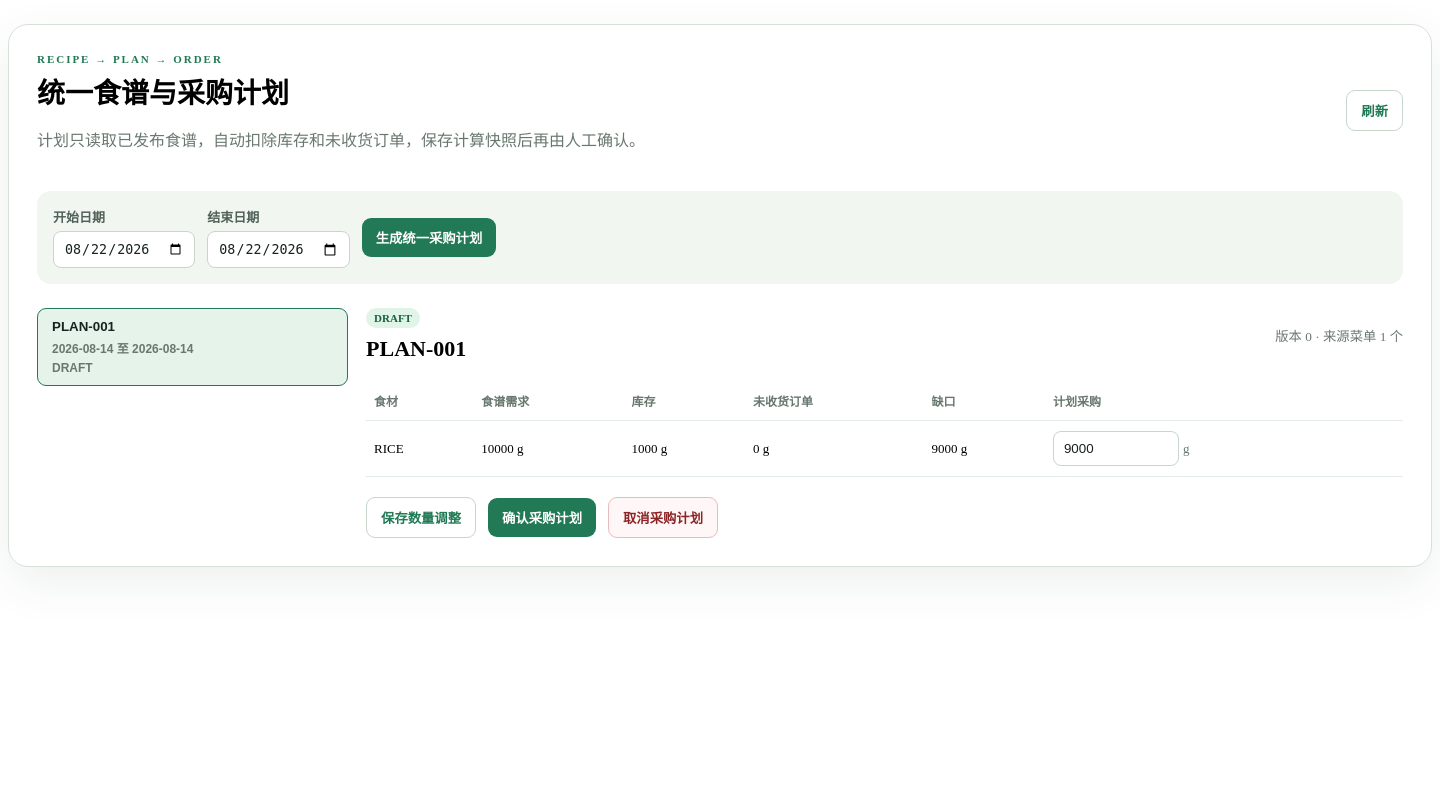
Test: ProcurementPlanWorkspace › loads a plan and completes adjust, confirm and order actions
Expected: the element with test id "procurement-plan-workspace" shows "PLAN-001", [37, 308, 348, 386]
Click the button with test id "procurement-plan-adjust": (421, 518) [366, 497, 476, 538]
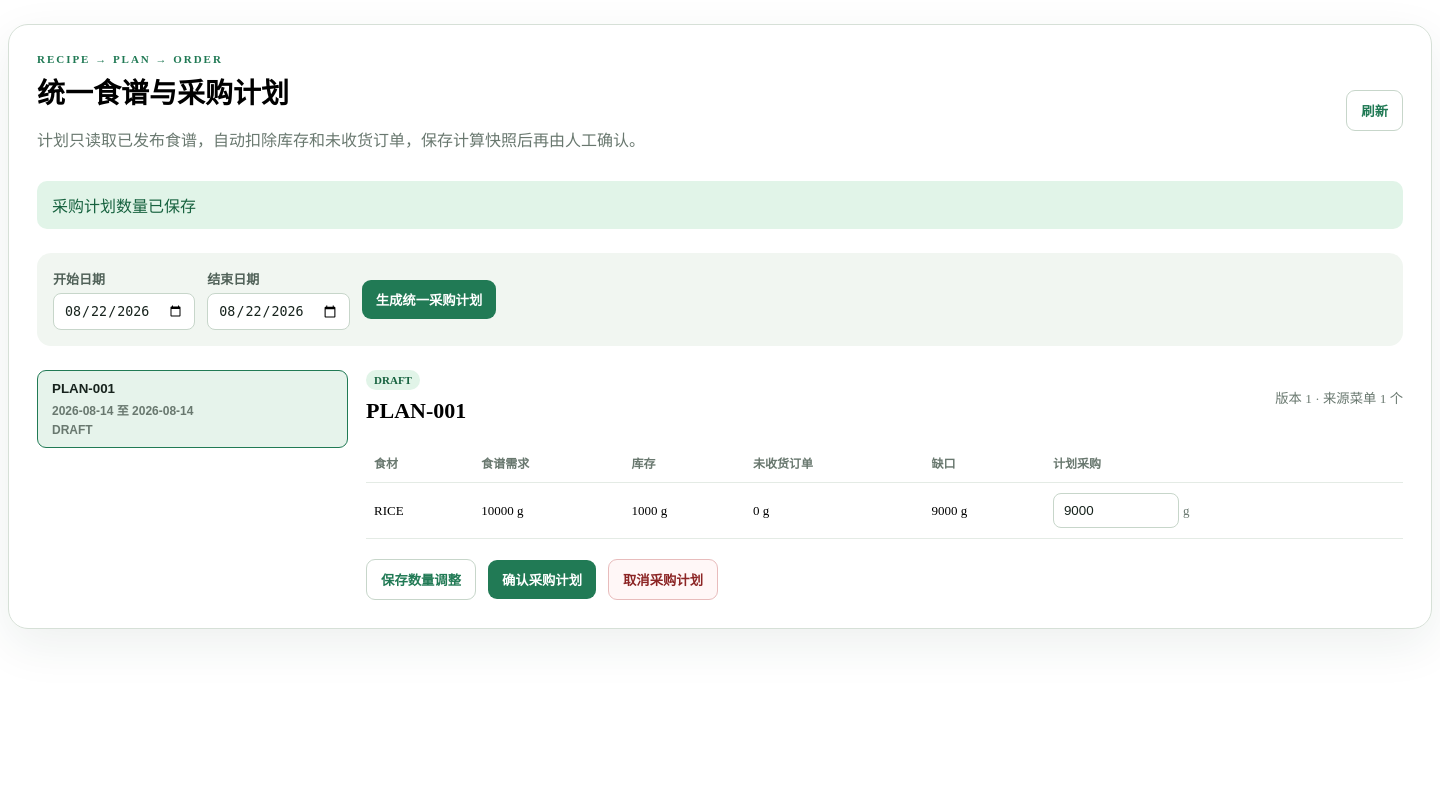
Click the button with test id "procurement-plan-confirm": (542, 580) [488, 560, 596, 599]
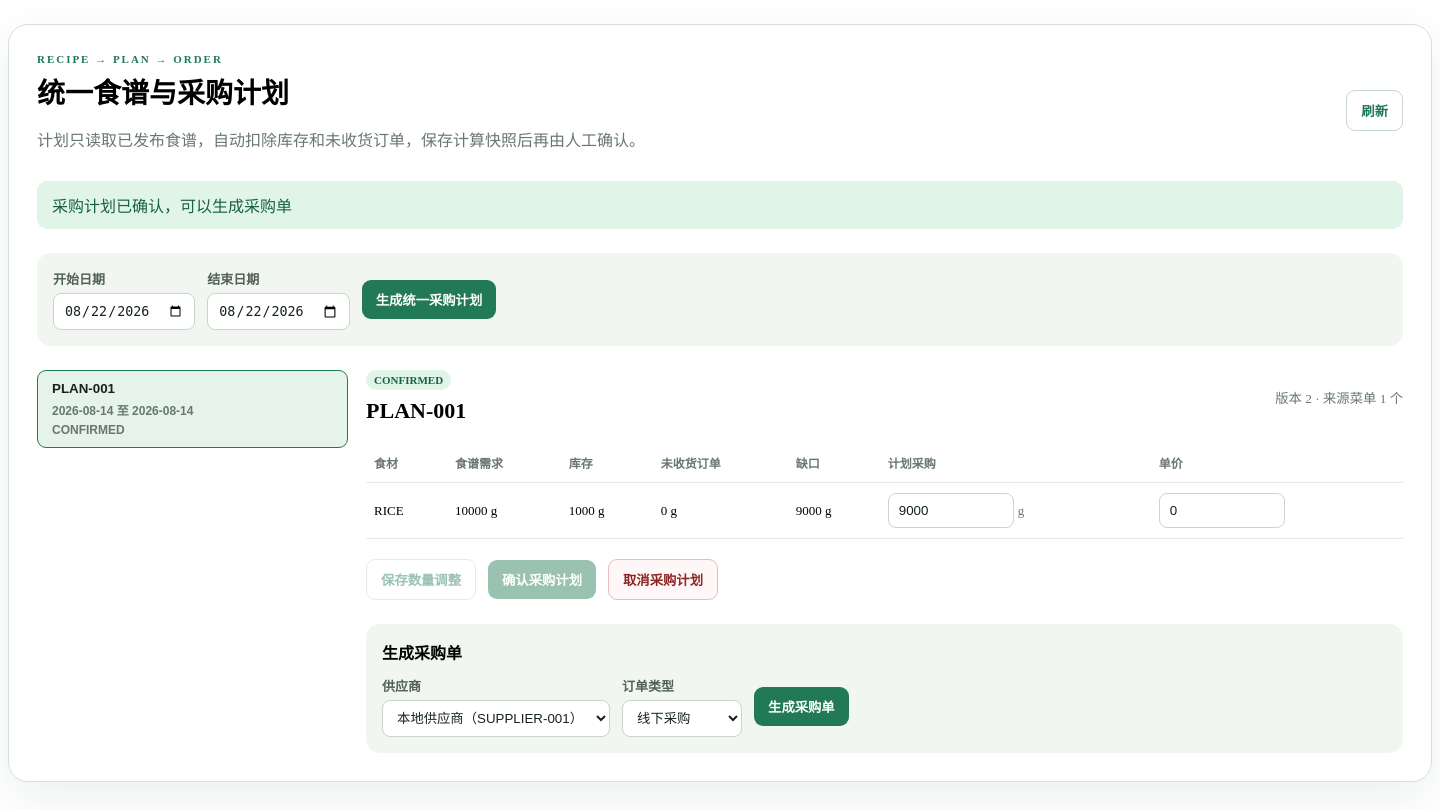
Expected: the button with test id "procurement-order-create" is shown
Click the button with test id "procurement-order-create": (801, 707) [754, 687, 849, 726]
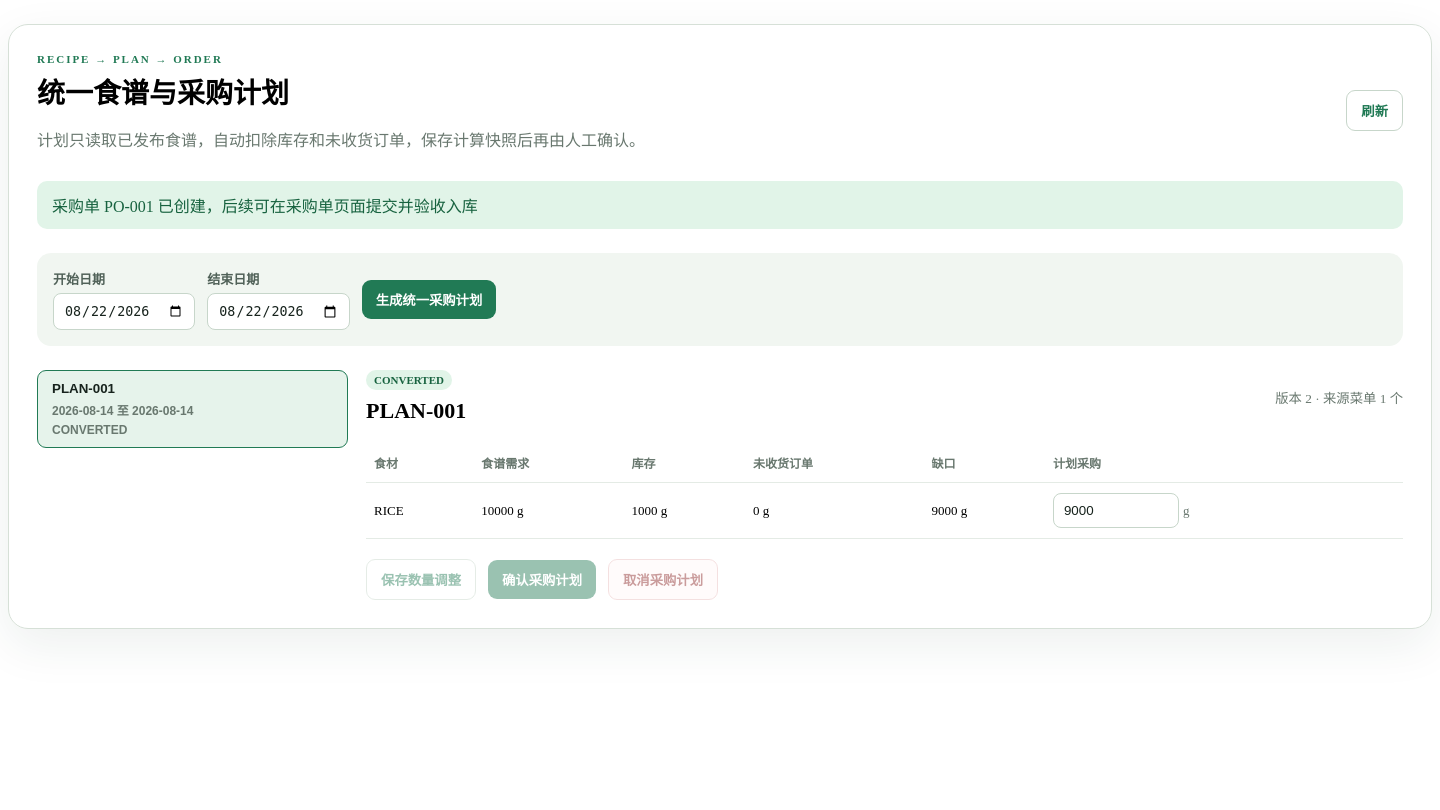
Expected: the text with test id "procurement-plan-notice" shows "采购单 PO-001", [52, 198, 478, 215]
